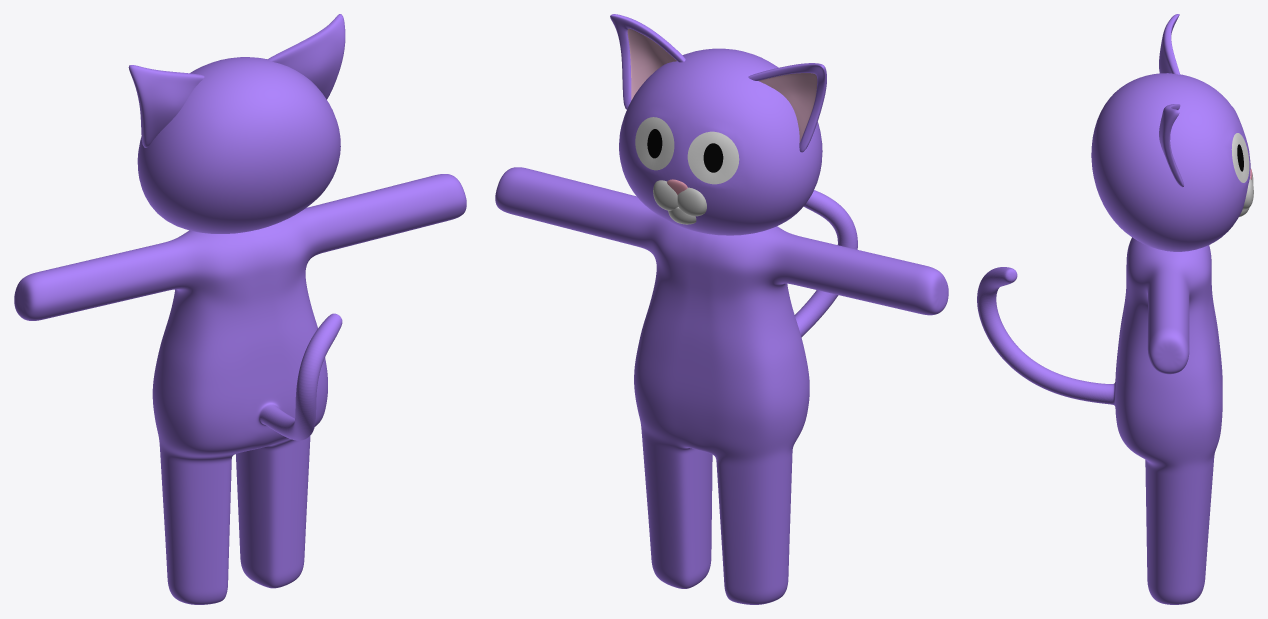
Rendered from NpcCat.fbx.
The picture shows the model from 3 angles, left to right: view 1: azimuth 30°, elevation 25°; view 2: azimuth 150°, elevation 25°; view 3: azimuth 270°, elevation 25°; orthographic projection. The views are drawn at different scales.
Parts seen in each view (by area): view 1: Cube.002; view 2: Cube.002; view 3: Cube.002.
Part boxes in pixels (<box>): Cube.002: <box>14,14,466,604</box>; Cube.002: <box>495,14,948,604</box>; Cube.002: <box>977,14,1253,604</box>.
Bounding box in the file's own units: 1.26 × 0.7236 × 1.5.
